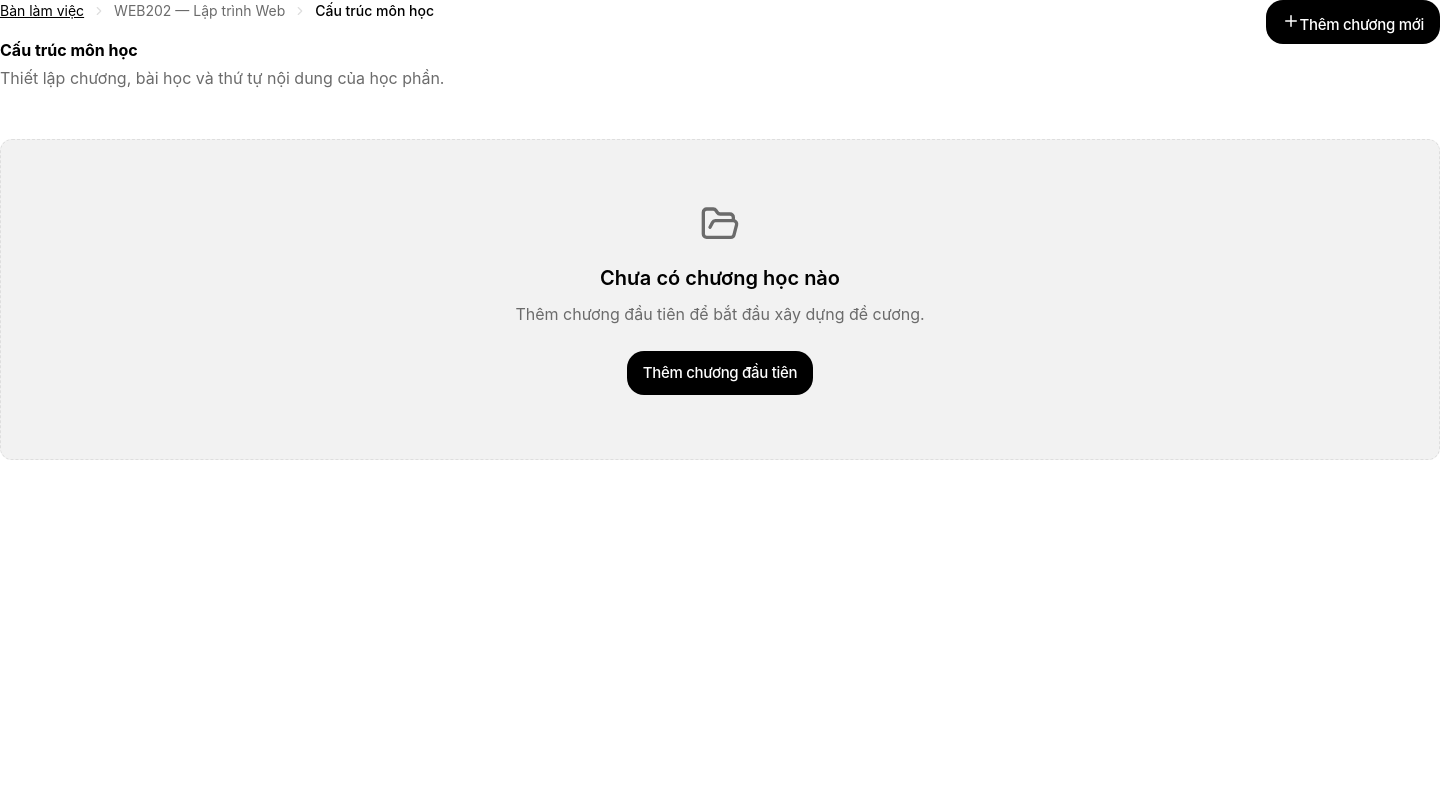
Scenario: B06 course management UI › manages chapter structure through persistent API mutations
Click the button "Thêm chương mới".
click(1353, 22)  # box x1=1266 y1=0 x2=1439 y2=44
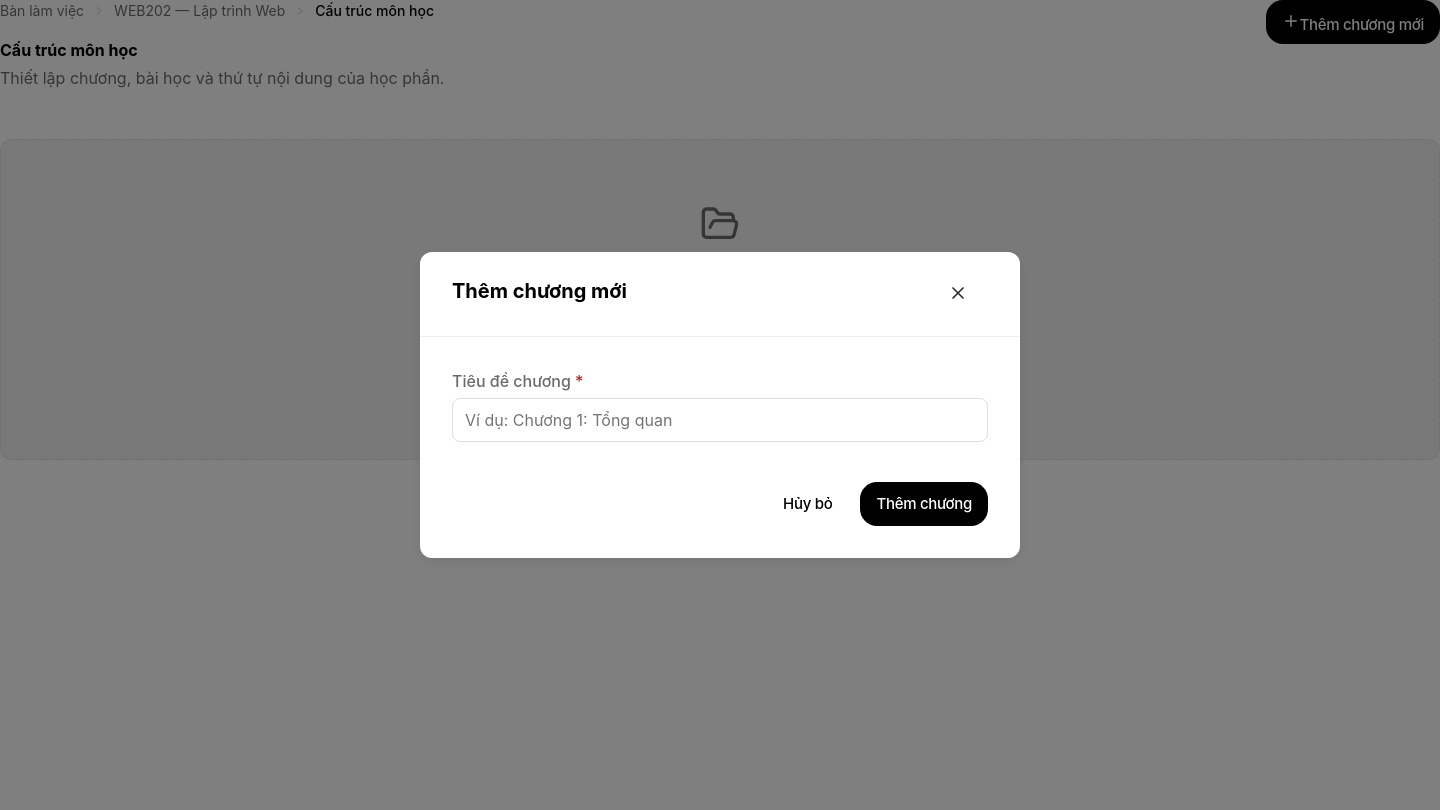
Type "Chương 1: API" into the field labelled "Tiêu đề chương *".
click(720, 420); type("Chương 1: API")  # box x1=452 y1=398 x2=988 y2=442
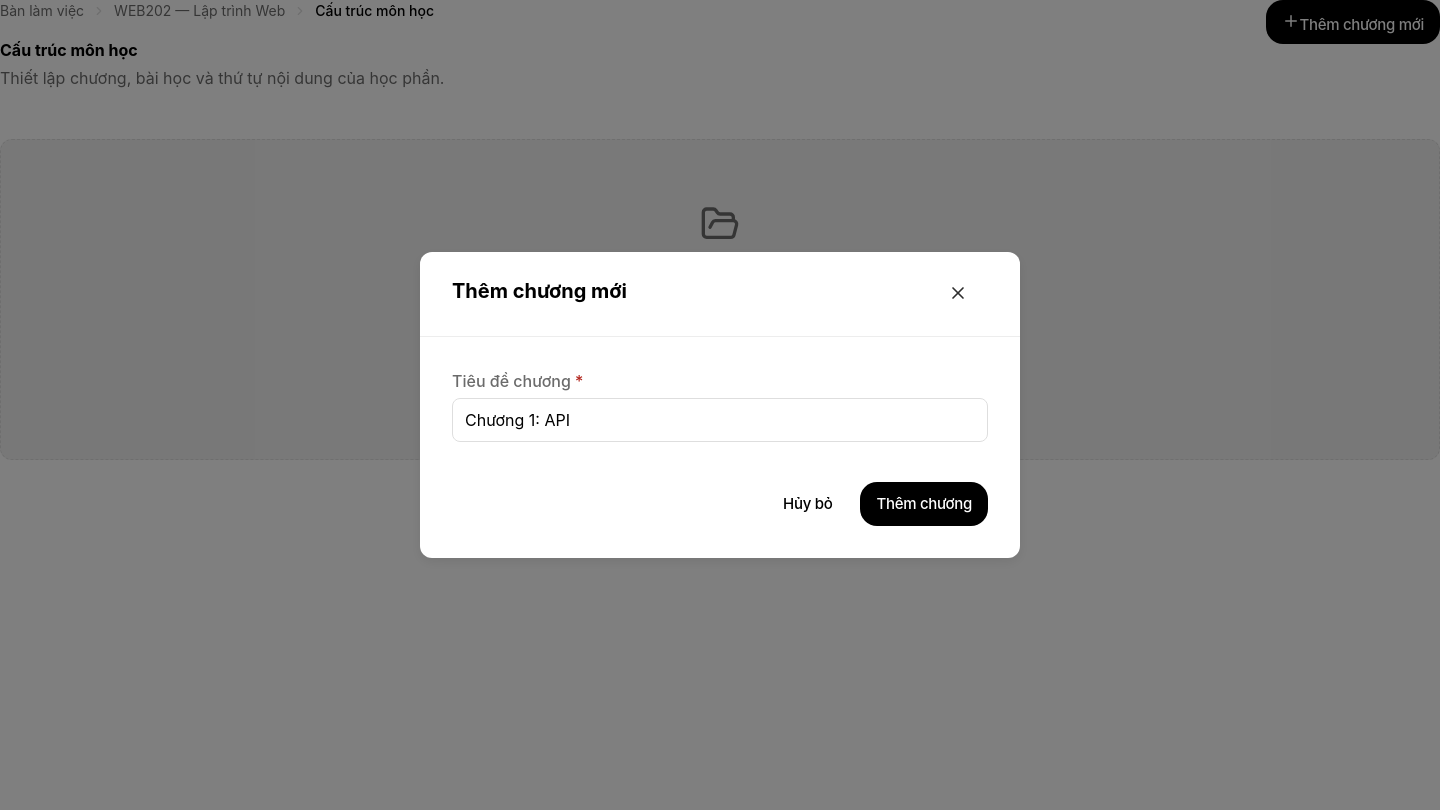
Click the button "Thêm chương".
click(924, 504)  # box x1=860 y1=482 x2=988 y2=526
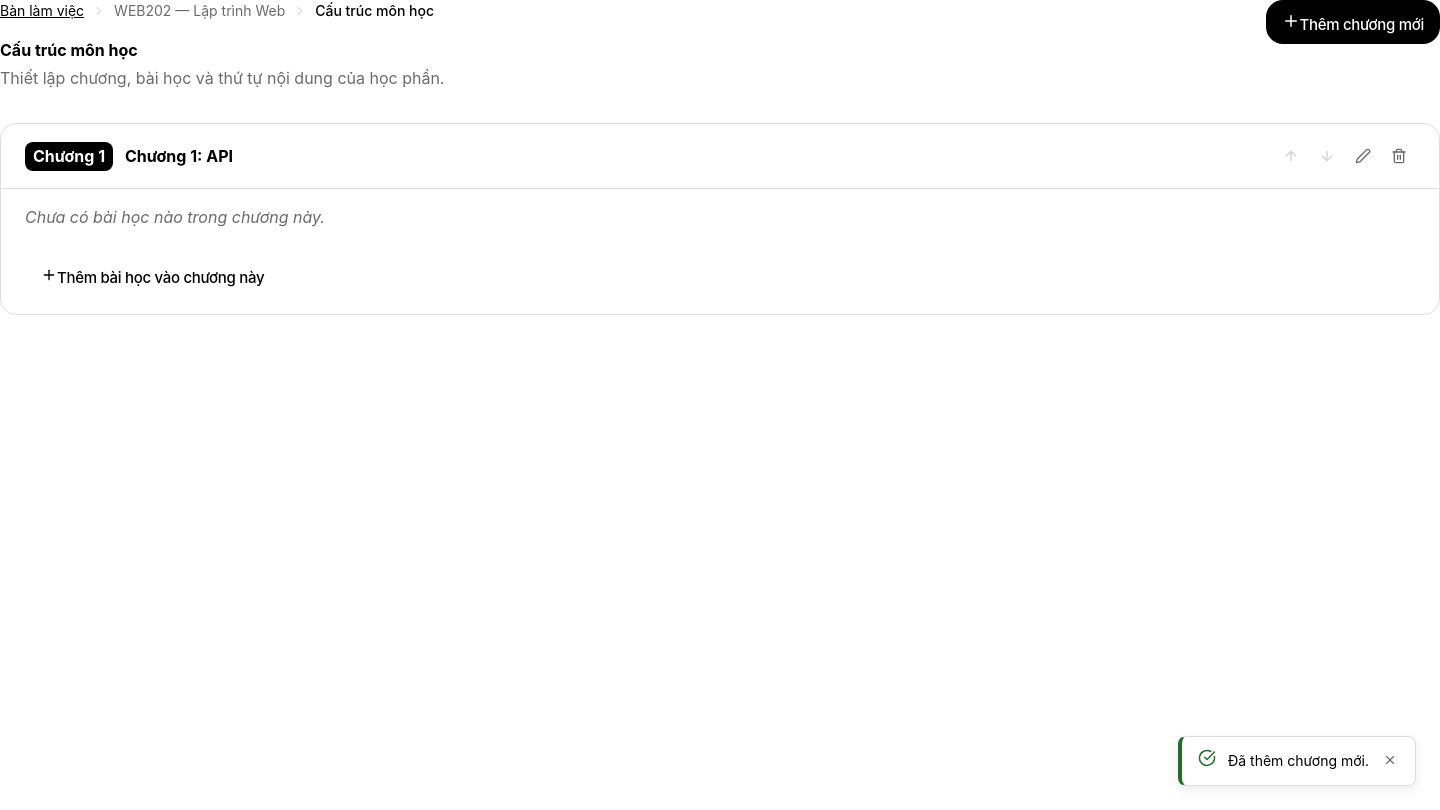
expect the heading "Chương 1: API" is shown: met, box x1=125 y1=144 x2=233 y2=169
